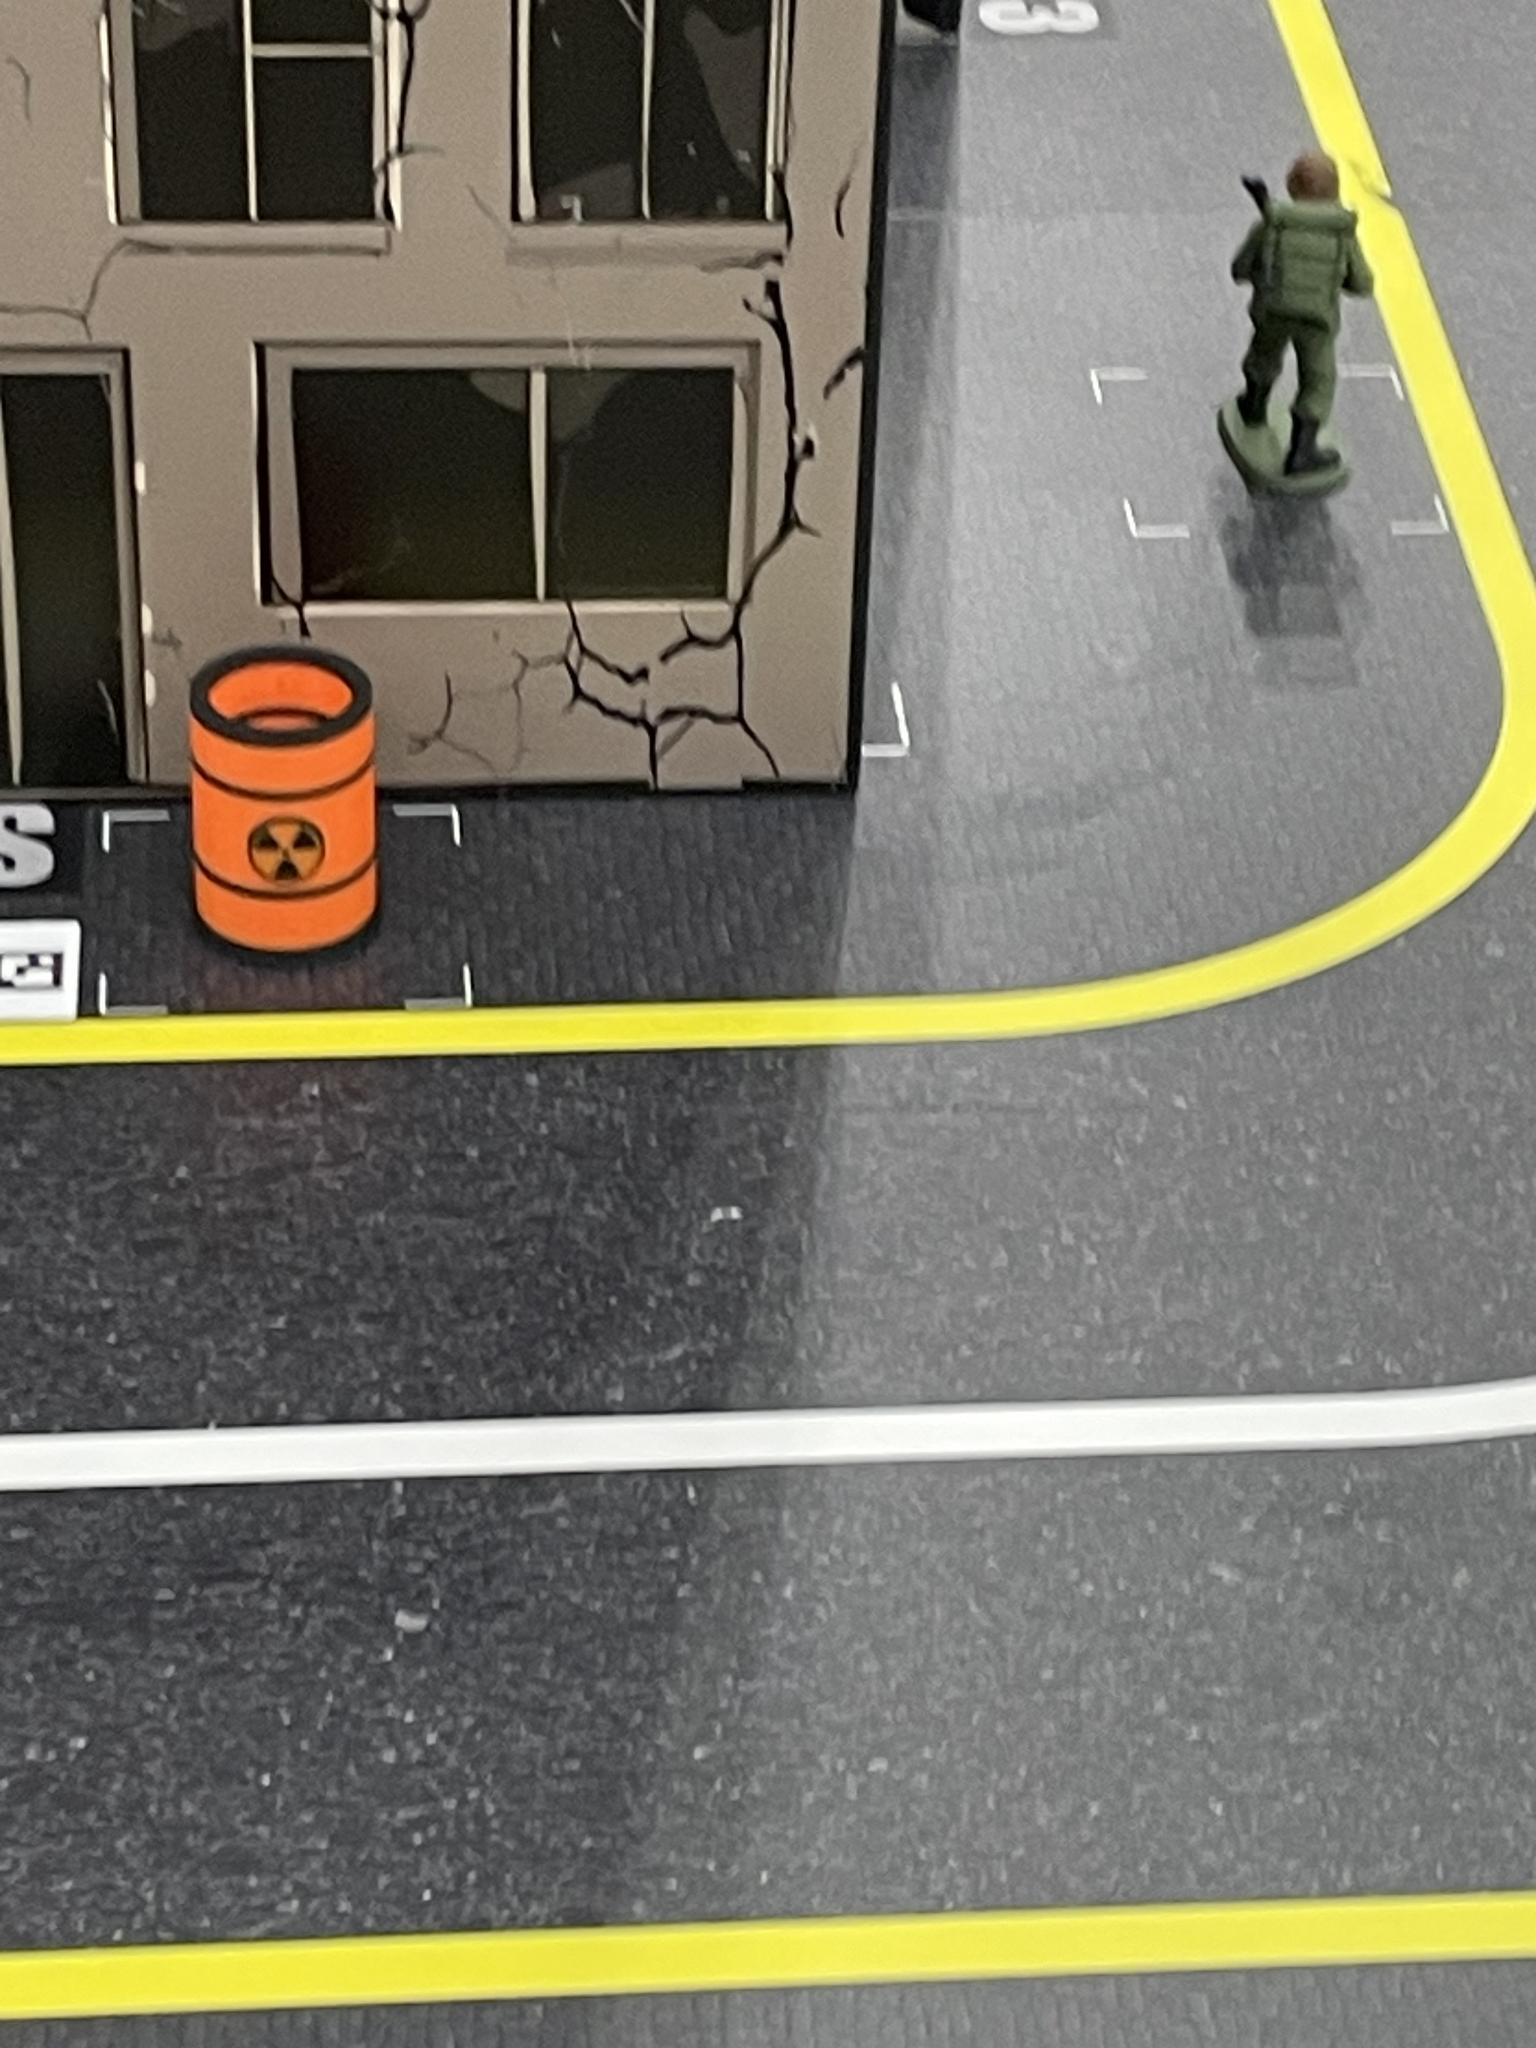Enemy: (1221, 145, 1363, 503)
Hazmat: (186, 640, 386, 963)
